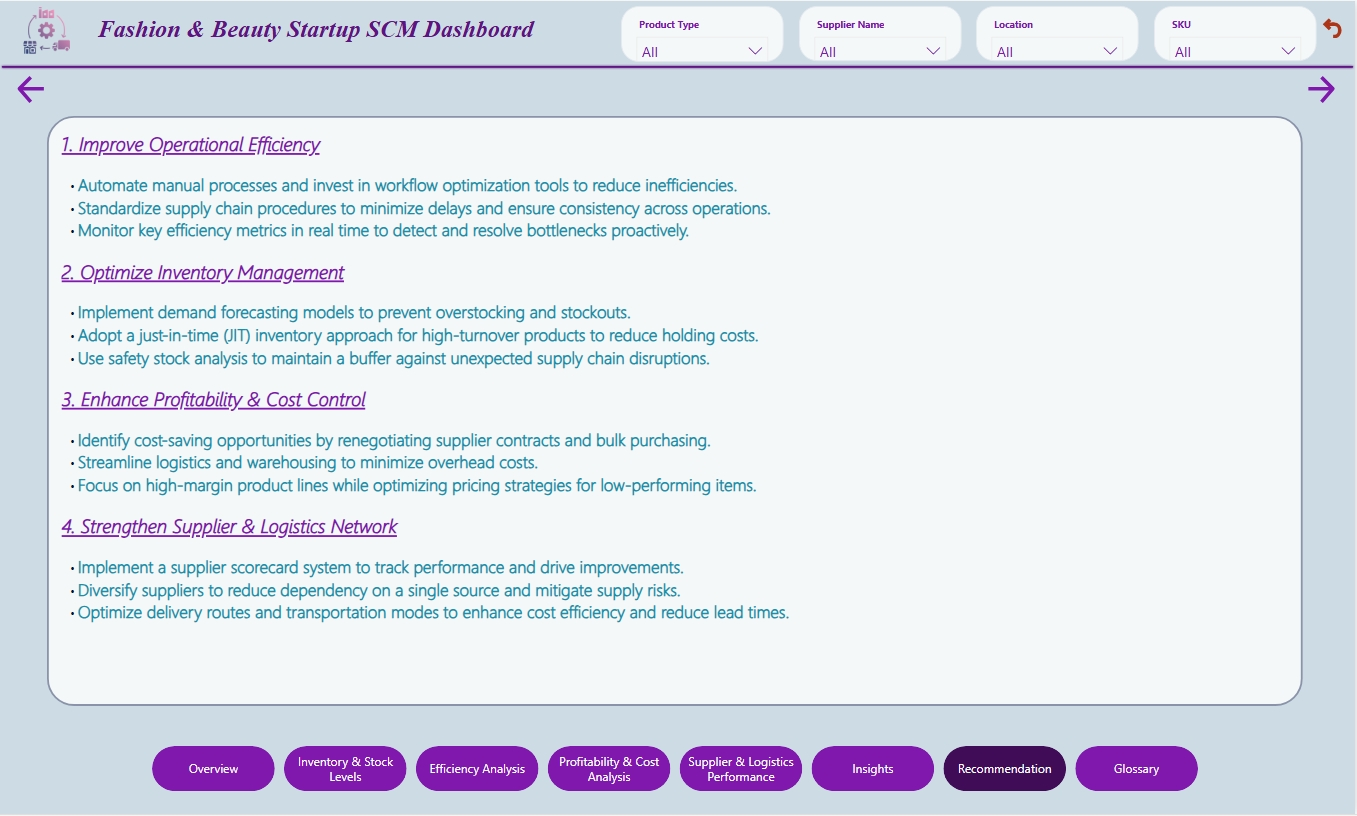

Layout of this report page (visuals, bound fields, positions):
{"tool":"powerbi","page":{"name":"Recommendation","canvas":[1500,900],"ordinal":6},"visuals":[{"type":"textbox","box":[103.2,11,554.4,46],"z":0},{"type":"image","box":[0,0,103.2,65.1],"z":1000},{"type":"shape","box":[0,40,1500.4,66.2],"z":2000},{"type":"pageNavigator","box":[168.3,824.8,1162.6,50.5],"z":3000},{"type":"slicer","fields":{"Values":["supply_chain_data.Product Type"]},"box":[687.6,5,180,62],"z":4000},{"type":"slicer","fields":{"Values":["supply_chain_data.Supplier Name"]},"box":[884.1,5,180,61.1],"z":5000},{"type":"slicer","fields":{"Values":["supply_chain_data.Location"]},"box":[1080.5,5,180,61.1],"z":6000},{"type":"slicer","fields":{"Values":["supply_chain_data.SKU"]},"box":[1277,5,180,61.1],"z":7000},{"type":"actionButton","box":[1460,0,40,60.5],"z":8000},{"type":"actionButton","box":[15.5,78.8,99.9,39.4],"z":9000},{"type":"textbox","box":[52.1,127.4,1390,653.3],"z":10000},{"type":"actionButton","box":[1442.9,78.8,56.3,39.4],"z":11000}]}

Visuals, with their boxes in screenshot pixels (x1, y1, x2, y2), scaled from the page's 1500x900 canvas onto the 1357x816 screenshot:
textbox: bbox=(93, 10, 595, 52)
image: bbox=(0, 0, 93, 59)
shape: bbox=(0, 36, 1356, 96)
pageNavigator: bbox=(152, 748, 1204, 794)
slicer - supply_chain_data.Product Type: bbox=(622, 5, 785, 61)
slicer - supply_chain_data.Supplier Name: bbox=(800, 5, 963, 60)
slicer - supply_chain_data.Location: bbox=(977, 5, 1140, 60)
slicer - supply_chain_data.SKU: bbox=(1155, 5, 1318, 60)
actionButton: bbox=(1321, 0, 1356, 55)
actionButton: bbox=(14, 71, 104, 107)
textbox: bbox=(47, 116, 1305, 708)
actionButton: bbox=(1305, 71, 1356, 107)
